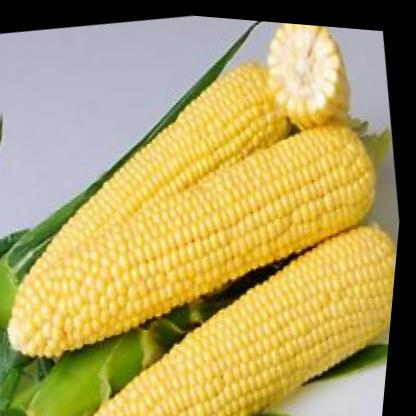---: (0, 74, 411, 394), (31, 187, 403, 416), (4, 35, 315, 277)
